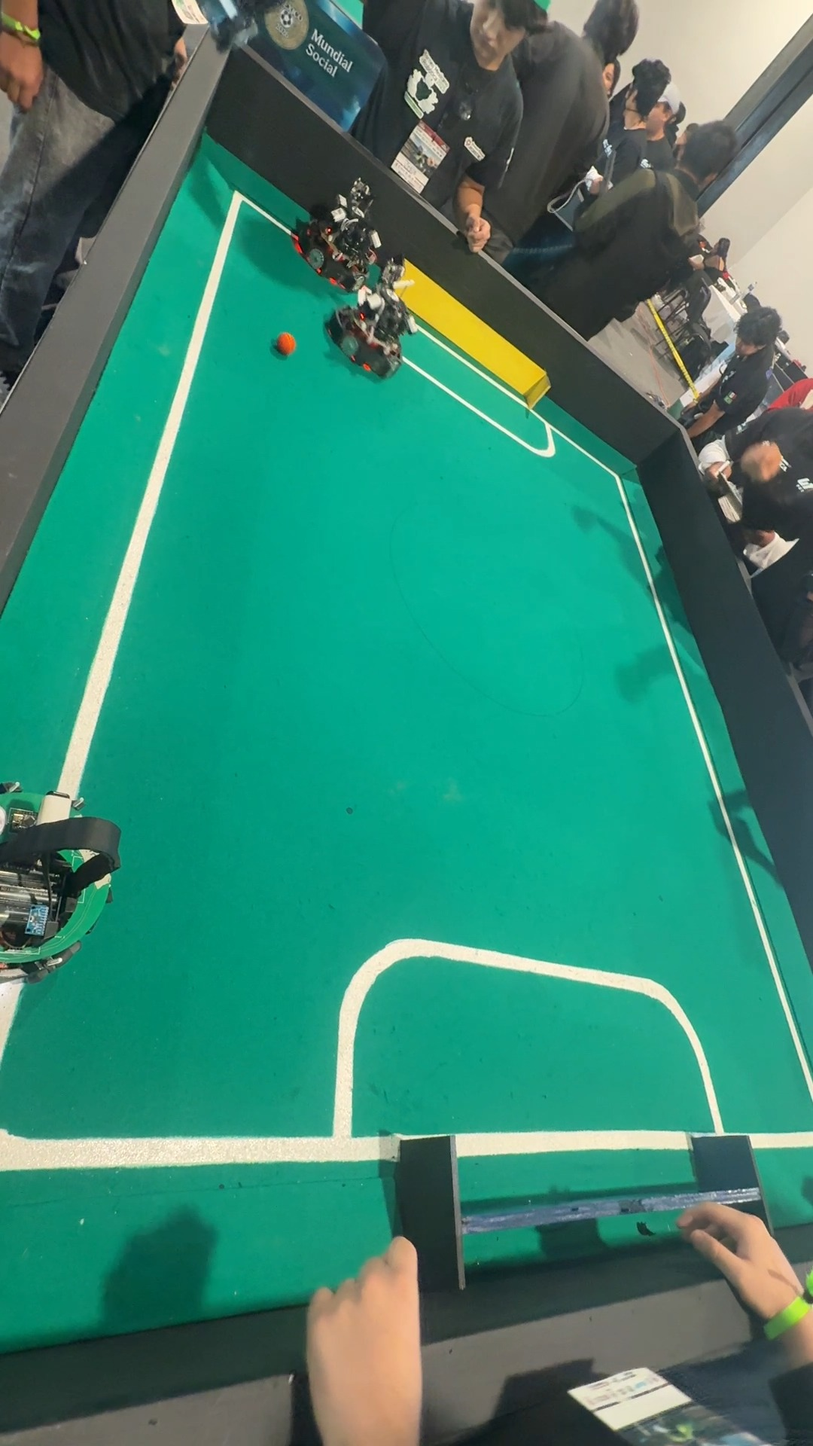Robot: (2, 754, 129, 995), (324, 247, 416, 386), (305, 174, 384, 289)
pelota: (274, 320, 297, 367)
